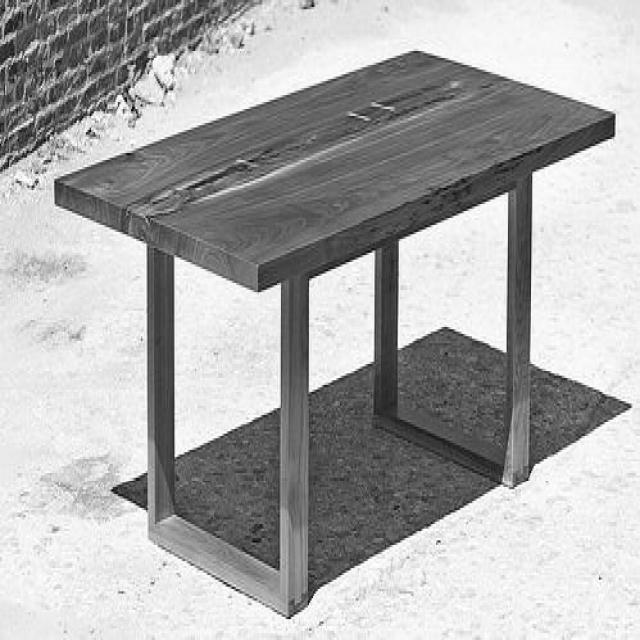table: (52, 48, 616, 616)
